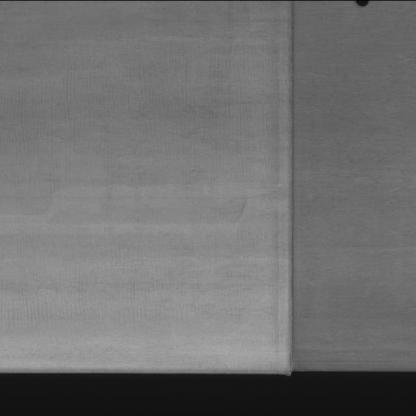punching_hole: (350, 0, 372, 7)
welding_line: (274, 0, 311, 378)
